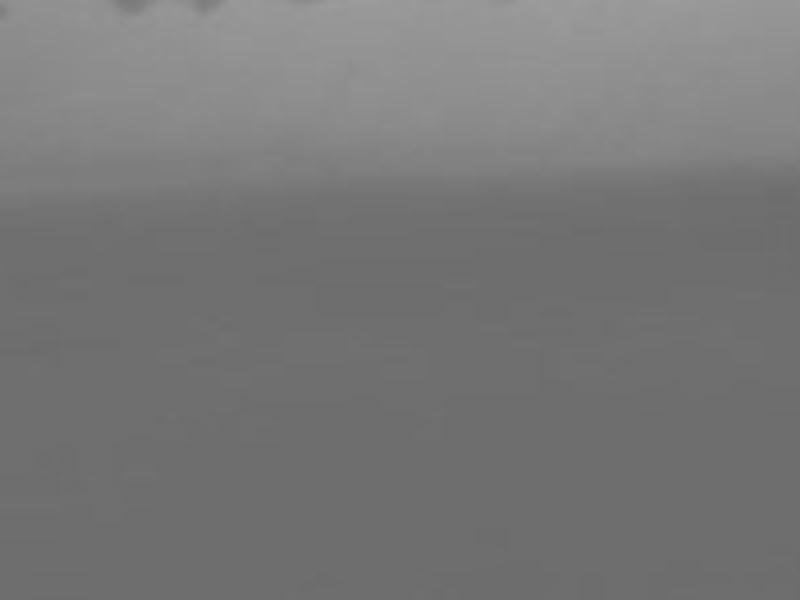defect: (189, 1, 225, 19), (116, 1, 152, 16)
